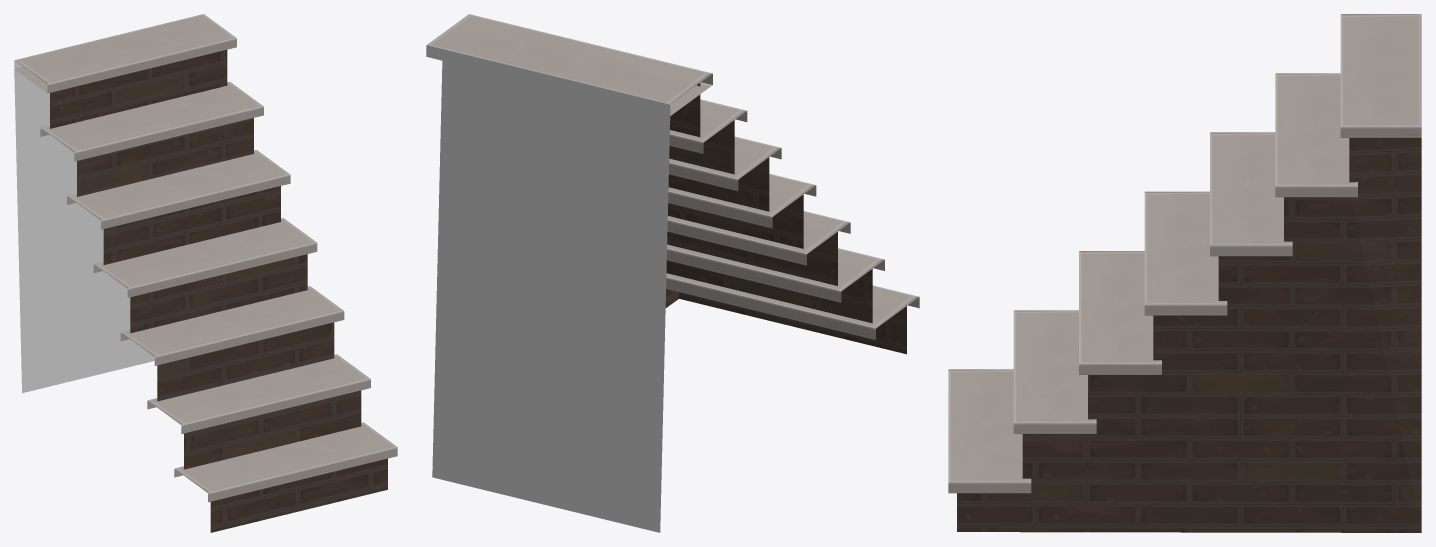
Rendered from Grachtstairs01.fbx.
3 renders of one model, left to right at view 1: azimuth 30°, elevation 25°; view 2: azimuth 150°, elevation 25°; view 3: azimuth 270°, elevation 25°, orthographic. The views are drawn at different scales.
Parts seen in each view (by area): view 1: Cube.013; view 2: Cube.013; view 3: Cube.013.
Boxes of the visible parts, x1,y1,x2,y2 form: Cube.013: [14, 14, 397, 532]; Cube.013: [426, 14, 919, 532]; Cube.013: [948, 14, 1421, 532].
Size of what is drawn, in the model's own units: 214 by 361 by 379.
